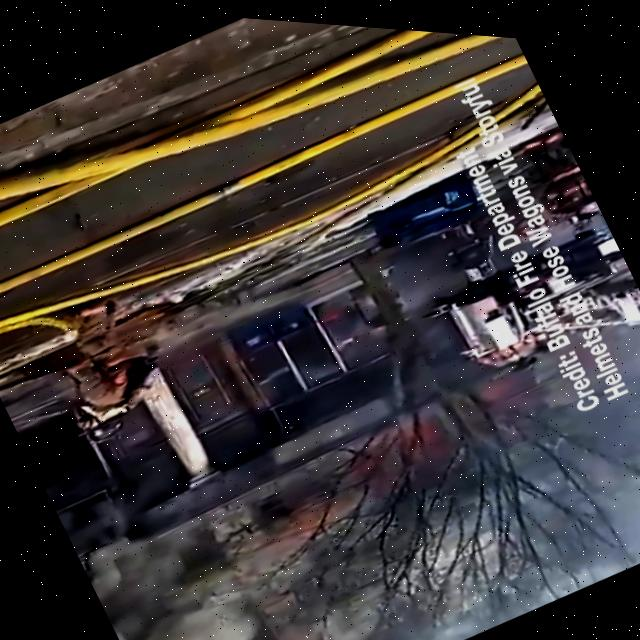Smoke: (57, 444, 314, 640)
